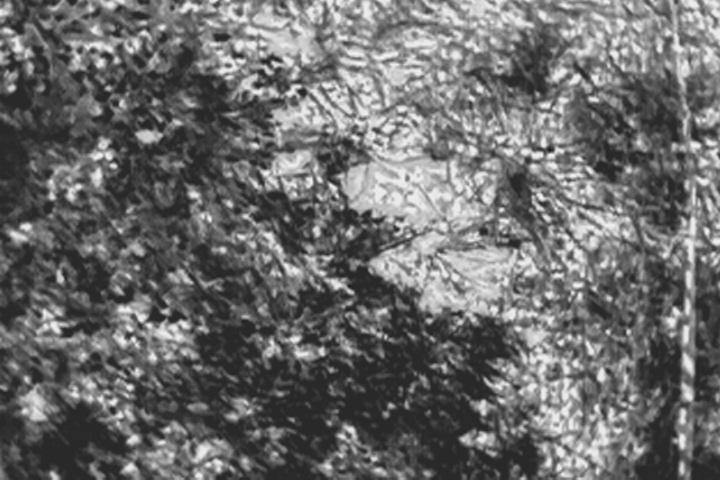landmine: (362, 146, 469, 222)
